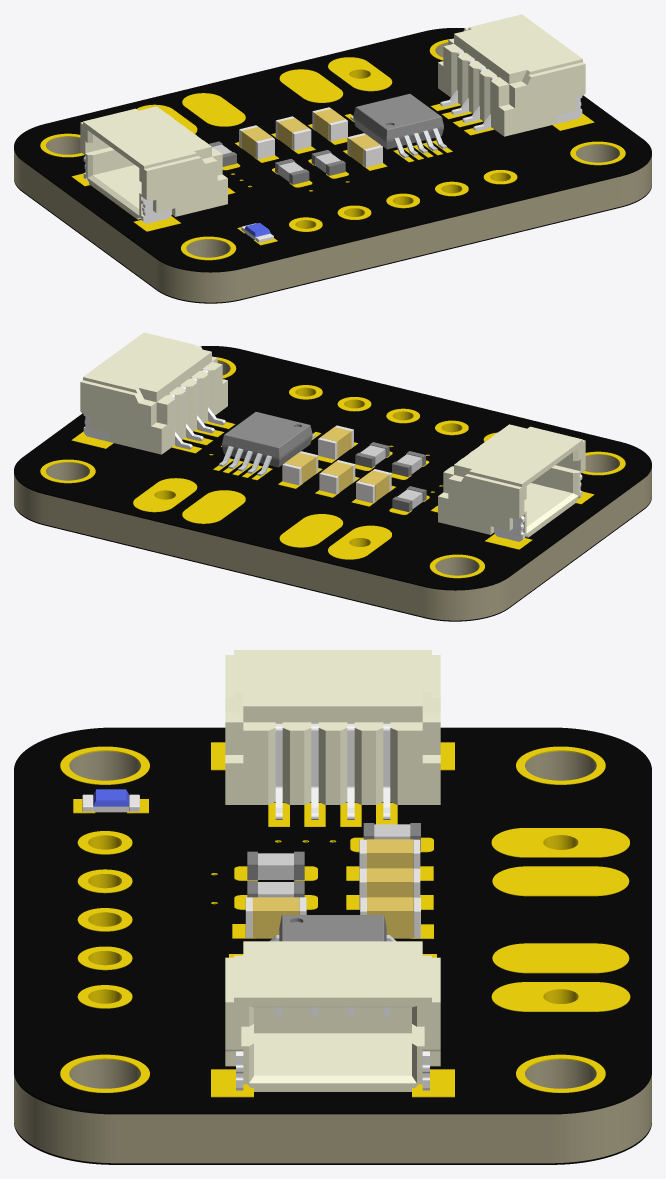
File: unit_glb_devlab_i2c_drv2605l_haptic_motor_controller_module.glb
3 views of the same model, one above another, from view 1: azimuth 30°, elevation 25°; view 2: azimuth 150°, elevation 25°; view 3: azimuth 270°, elevation 25° (orthographic). The views are drawn at different scales.
Visible parts, largest first — view 1: Node20, Node11, Node8, Node7, Node5, Node12, Node15, Node14, Node10, Node17, Node13, Node16; view 2: Node20, Node11, Node8, Node7, Node5, Node12, Node15, Node14, Node10, Node17, Node16, Node13; view 3: Node20, Node11, Node8, Node7, Node5, Node15, Node10, Node12, Node14, Node16, Node17.
Boxes of the visible parts, x1,y1,x2,y2 form: Node20: (14,28,651,303); Node11: (80,14,585,219); Node8: (14,42,651,302); Node7: (40,39,625,260); Node5: (71,69,594,245); Node12: (353,94,443,149); Node15: (241,108,380,165); Node14: (239,107,382,242); Node10: (83,51,582,223); Node17: (208,141,345,184); Node13: (350,116,446,158); Node16: (212,144,340,181); Node20: (14,346,651,621); Node11: (80,332,585,537); Node8: (14,360,651,620); Node7: (40,357,625,578); Node5: (71,421,594,549); Node12: (222,412,312,467); Node15: (285,427,389,501); Node14: (282,425,391,503); Node10: (83,369,582,541); Node17: (355,442,426,512); Node16: (360,445,422,509); Node13: (219,434,315,476); Node20: (14,727,651,1164); Node11: (225,650,440,1091); Node8: (14,751,651,1163); Node7: (60,746,630,1092); Node5: (73,742,629,1097); Node15: (252,839,413,938); Node10: (236,723,429,1090); Node12: (279,915,386,941); Node14: (82,794,420,938); Node16: (258,824,410,897); Node17: (247,823,420,897).
Bounding box in the file's own units: 25.4 × 4.58 × 17.78.
